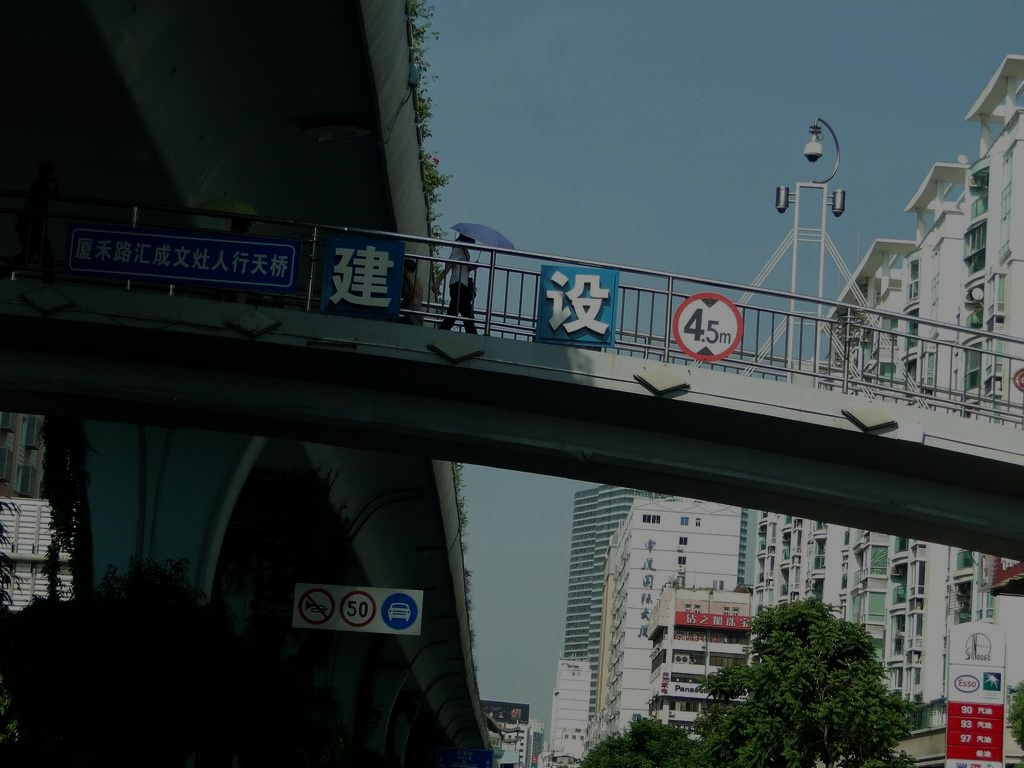Informative Signs: (379, 591, 419, 632)
Prohibitory Signs: (670, 291, 746, 364), (297, 587, 336, 626), (338, 590, 377, 629)
